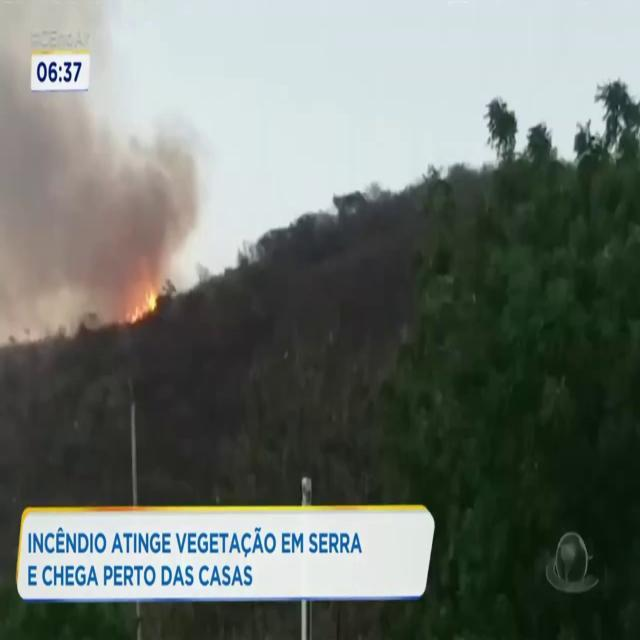Fire: (129, 288, 155, 320)
Smoke: (2, 7, 199, 328)
